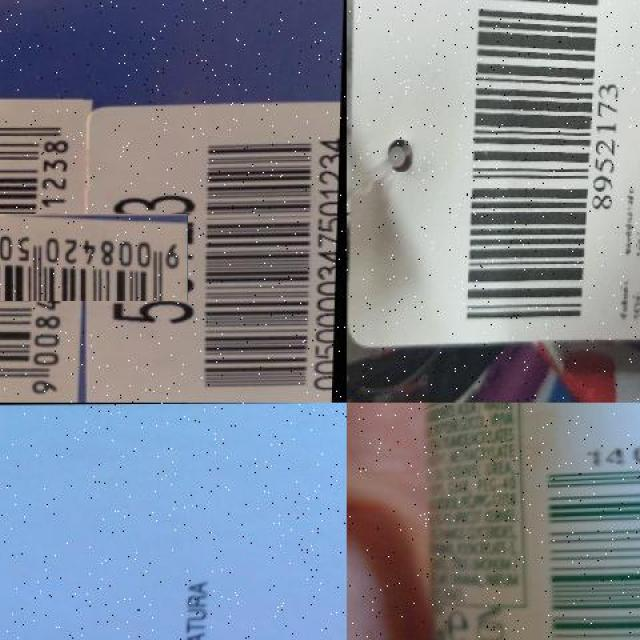Barcode: (461, 0, 632, 332), (196, 126, 343, 402), (0, 163, 138, 351), (537, 460, 640, 640)
